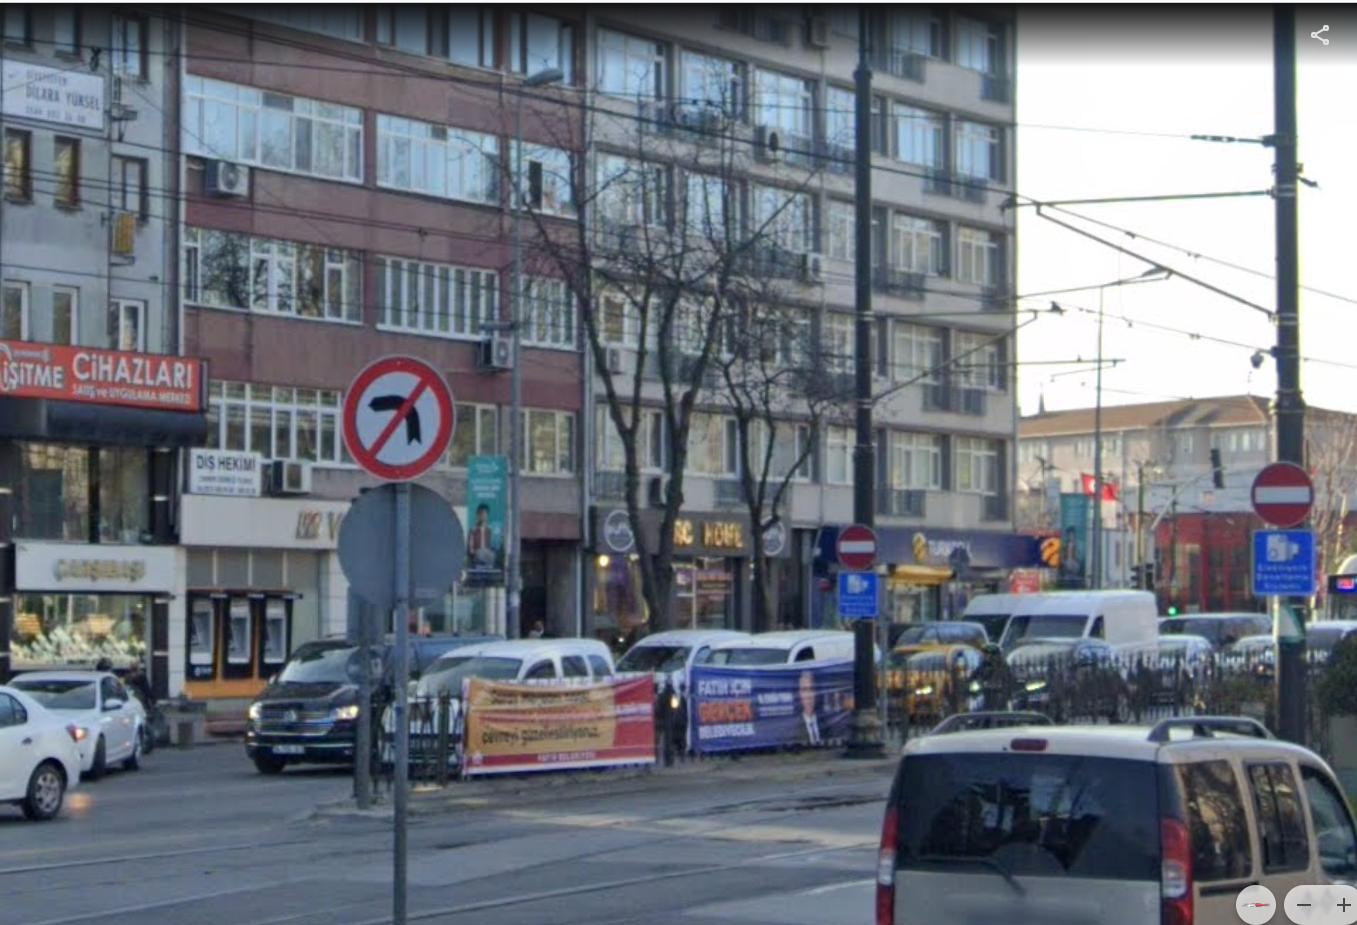leftturnsareforbidden: (349, 360, 453, 472)
